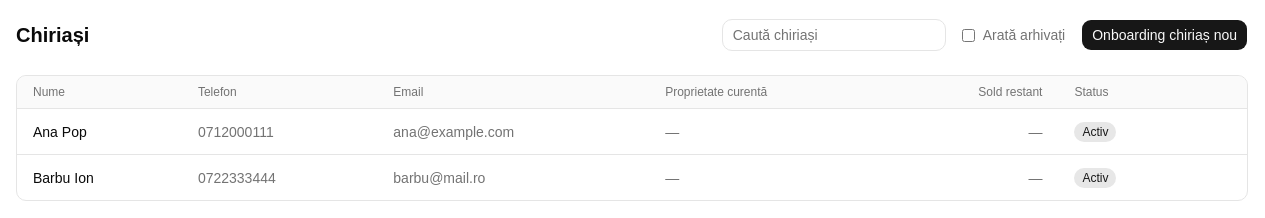
Test case: TenantsListPage (FR-TEN-13) › search (name + phone + email) › shows ZERO rows and the no-matches message when nothing matches (anti-vacuity)
This screenshot has width=1265, height=218.
Type "zzz-nothing" into the search field at (834, 35), box [722,19,946,51]
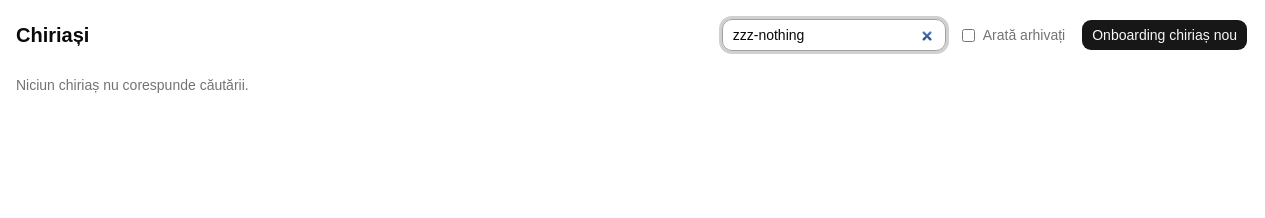
Result: the row "Nume Telefon Email Proprietate curentă Sold restant Status" is gone
Result: the text "Niciun chiriaș nu corespunde căutării." is shown at [16,77,249,93]
